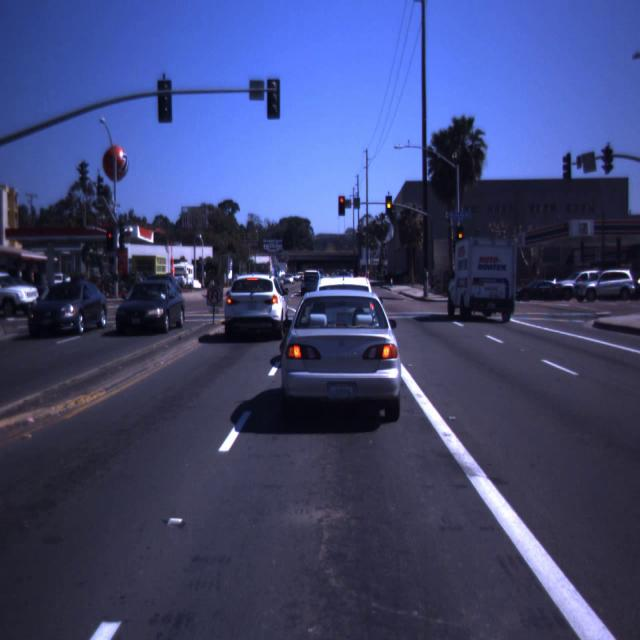arka_lamba: (157, 75, 172, 123), (266, 79, 281, 119)
kirmizi: (338, 196, 345, 216)
sari: (386, 197, 391, 214)
